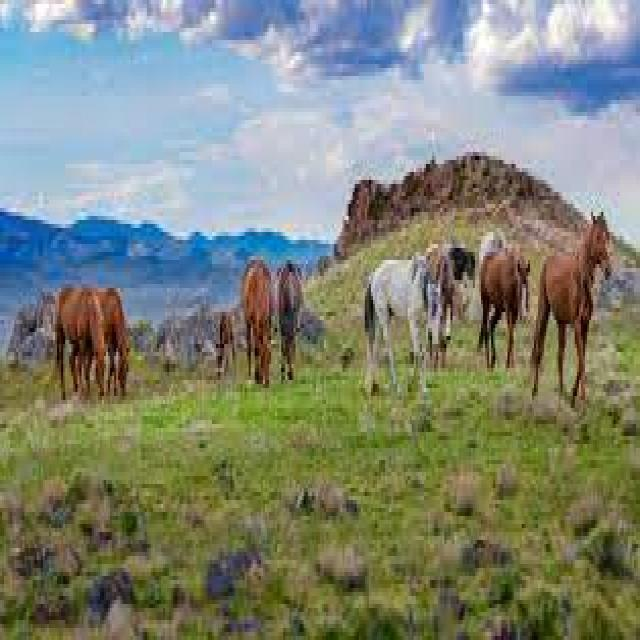horse-eating: (51, 269, 108, 409), (240, 238, 280, 418), (280, 251, 310, 391), (108, 282, 137, 421)
horse-standing: (525, 204, 614, 420), (356, 254, 448, 407), (478, 243, 533, 377)
